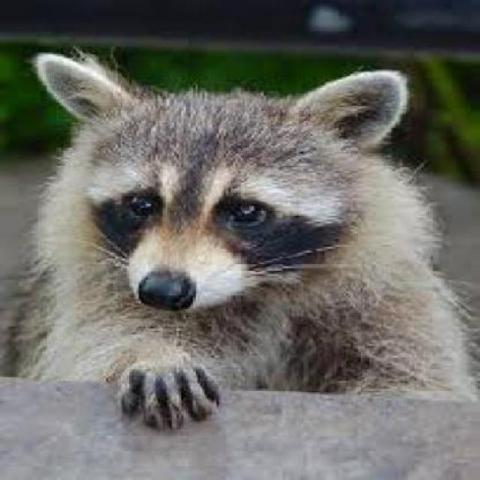small_animal: (7, 46, 476, 432)
